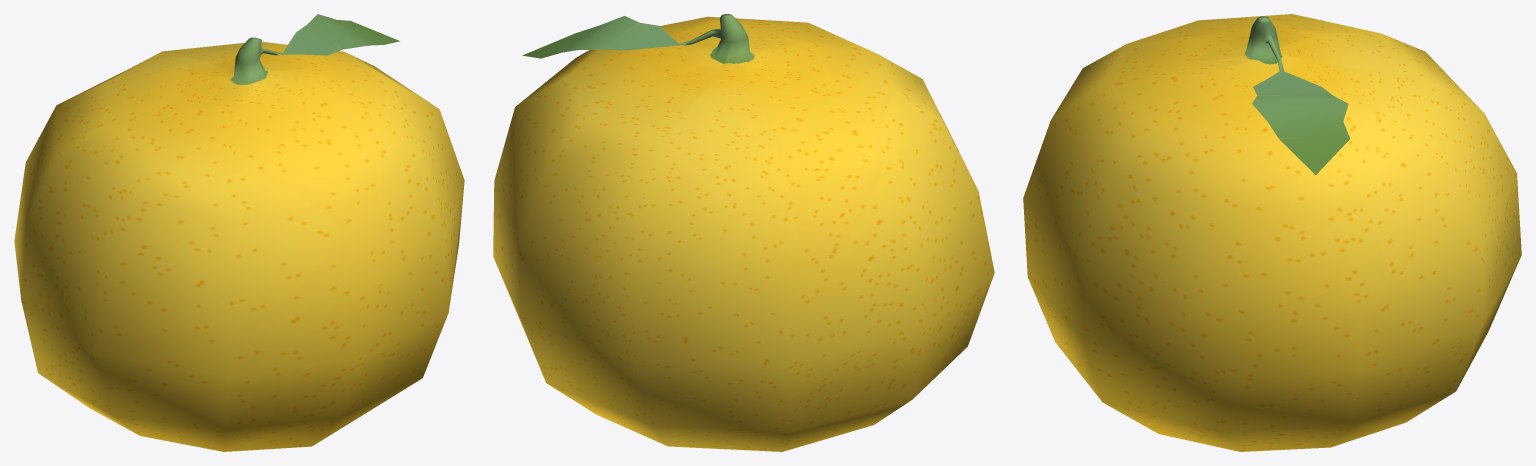
Rendered from yuzu2.fbx.
The picture shows the model from 3 angles, left to right: view 1: azimuth 30°, elevation 25°; view 2: azimuth 150°, elevation 25°; view 3: azimuth 270°, elevation 25°; orthographic projection. The views are drawn at different scales.
Visible parts, largest first — view 1: pSphere1; view 2: pSphere1; view 3: pSphere1.
Part boxes in pixels (left/top/right/bottom): pSphere1: left=14, top=14, right=464, bottom=451; pSphere1: left=493, top=14, right=994, bottom=451; pSphere1: left=1023, top=14, right=1521, bottom=451.
Bounding box in the file's own units: 0.448 × 0.3982 × 0.4485.
